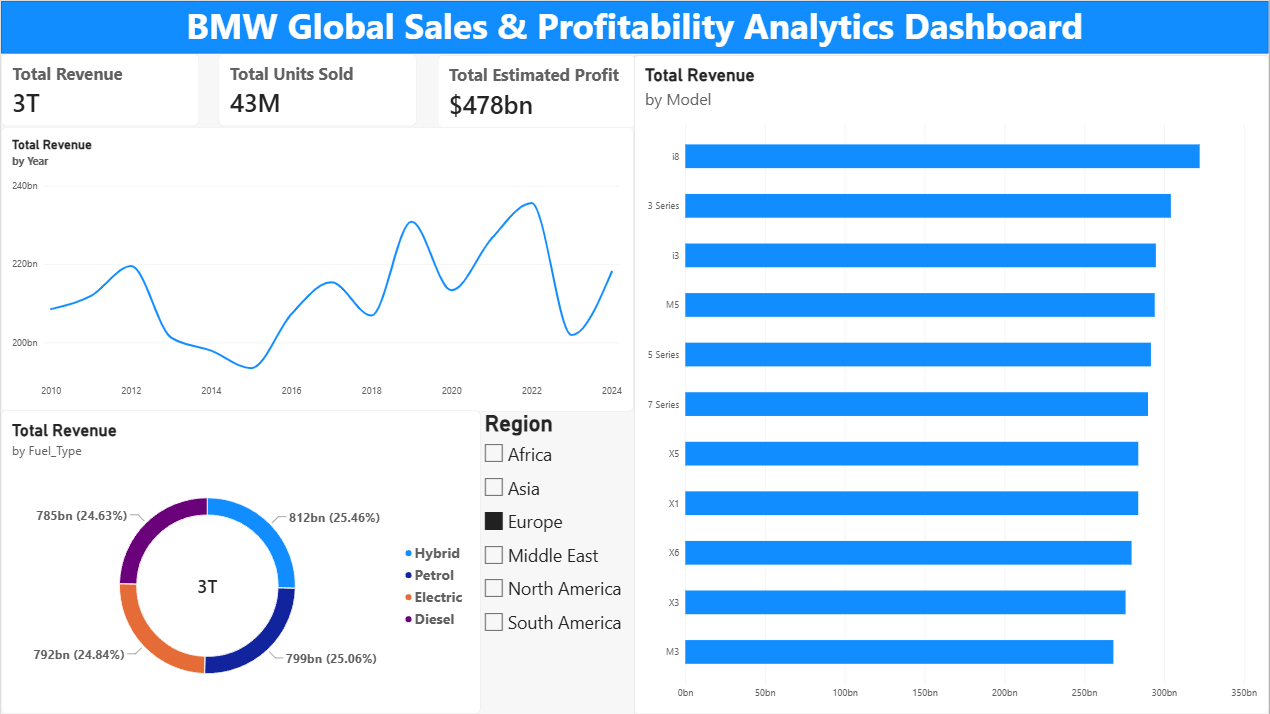

Layout of this report page (visuals, bound fields, positions):
{"tool":"powerbi","page":{"name":"Page 1","canvas":[1920,1080],"ordinal":0},"visuals":[{"type":"cardVisual","fields":{"Data":["cleaned_bmw_sales_data.Total Revenue"]},"box":[0,79.5,300.5,110.6],"z":0},{"type":"cardVisual","fields":{"Data":["cleaned_bmw_sales_data.Total Units Sold"]},"box":[329.3,79.5,300.5,110.6],"z":1000},{"type":"cardVisual","fields":{"Data":["cleaned_bmw_sales_data.Total Estimated Profit"]},"box":[661,81.8,300.5,110.6],"z":2000},{"type":"clusteredBarChart","fields":{"Category":["cleaned_bmw_sales_data.Model"],"Y":["cleaned_bmw_sales_data.Total Revenue"]},"box":[958.1,82.2,961,997.8],"z":3000},{"type":"lineChart","fields":{"Category":["cleaned_bmw_sales_data.Year"],"Y":["cleaned_bmw_sales_data.Total Revenue"]},"box":[0,189.9,958.1,430.9],"z":4000},{"type":"slicer","fields":{"Values":["cleaned_bmw_sales_data.Region"]},"box":[725.7,620.8,229.6,459.2],"z":5000},{"type":"donutChart","fields":{"Category":["cleaned_bmw_sales_data.Fuel_Type"],"Y":["cleaned_bmw_sales_data.Total Revenue"]},"box":[0,620.8,725.7,459.2],"z":6000},{"type":"shape","box":[0,0,1919.1,79.4],"z":7000},{"type":"textbox","box":[0,0,1919.1,82.2],"z":8000}]}

Visuals, with their boxes in screenshot pixels (x1, y1, x2, y2), scaled from the page's 1920x1080 canvas onto the 1270x714 screenshot:
cardVisual - cleaned_bmw_sales_data.Total Revenue: l=0, t=53, r=199, b=126
cardVisual - cleaned_bmw_sales_data.Total Units Sold: l=218, t=53, r=417, b=126
cardVisual - cleaned_bmw_sales_data.Total Estimated Profit: l=437, t=54, r=636, b=127
clusteredBarChart - cleaned_bmw_sales_data.Model x cleaned_bmw_sales_data.Total Revenue: l=634, t=54, r=1269, b=713
lineChart - cleaned_bmw_sales_data.Year x cleaned_bmw_sales_data.Total Revenue: l=0, t=126, r=634, b=410
slicer - cleaned_bmw_sales_data.Region: l=480, t=410, r=632, b=713
donutChart - cleaned_bmw_sales_data.Fuel_Type x cleaned_bmw_sales_data.Total Revenue: l=0, t=410, r=480, b=713
shape: l=0, t=0, r=1269, b=52
textbox: l=0, t=0, r=1269, b=54
